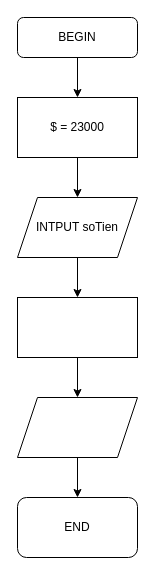
Image size: 155x575. Some labels were removed from this diagram. The box of each missing label's shape, as (x1, y1, x2, y2) in pixels:
OUTPUT VND: (16, 396, 138, 458)
VND = soTien*23000: (16, 296, 138, 358)
